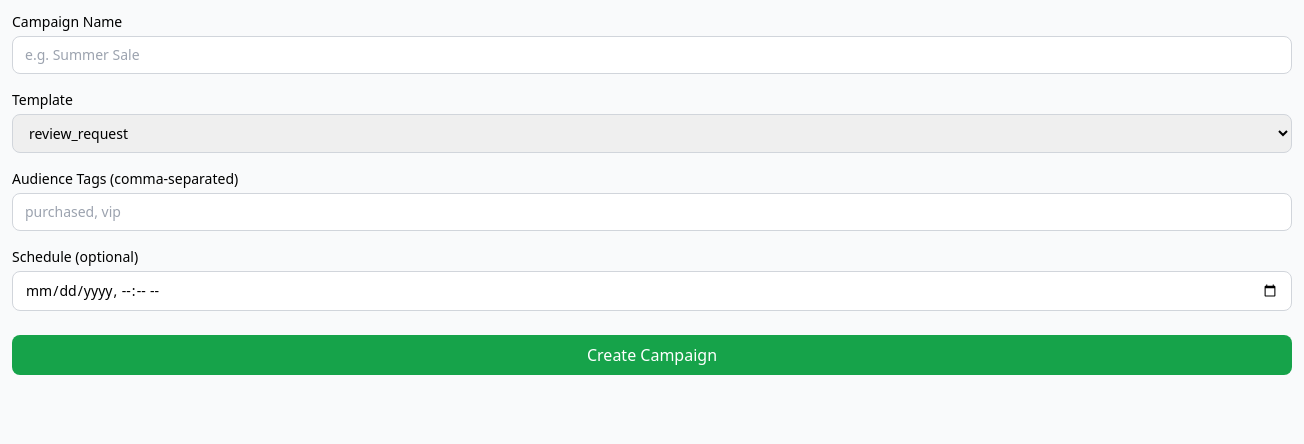
Test case: CampaignForm › clears validation error after valid name is entered and re-submitted
# Trigger error
Click the button "Create Campaign".
click(652, 355)  # box [12,335,1292,375]
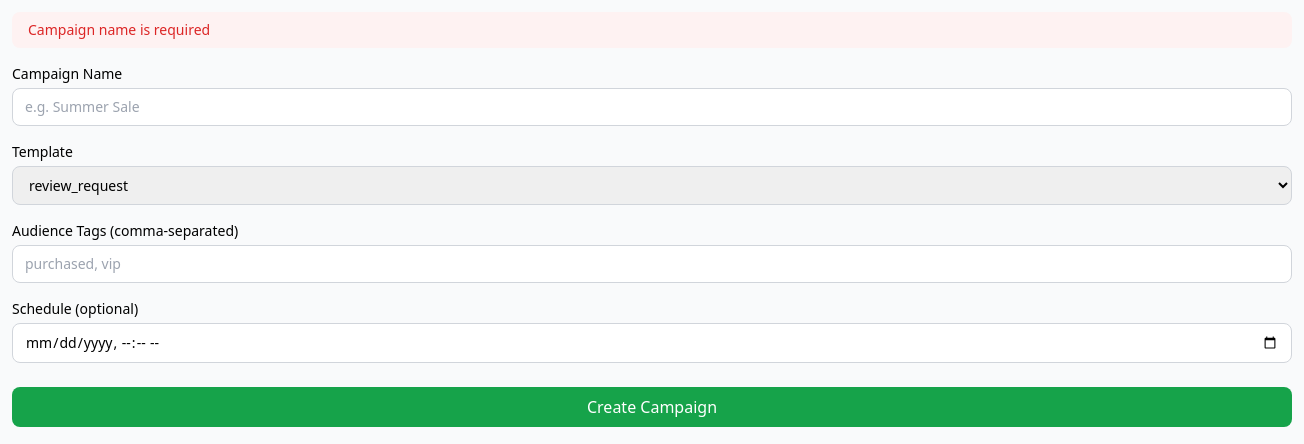
expect the message "Campaign name is required" is shown: met, box [12,12,1292,48]
# Enter valid name and submit
Type "Diwali Special" into the field labelled "Campaign Name".
click(652, 107); type("Diwali Special")  # box [12,88,1292,126]
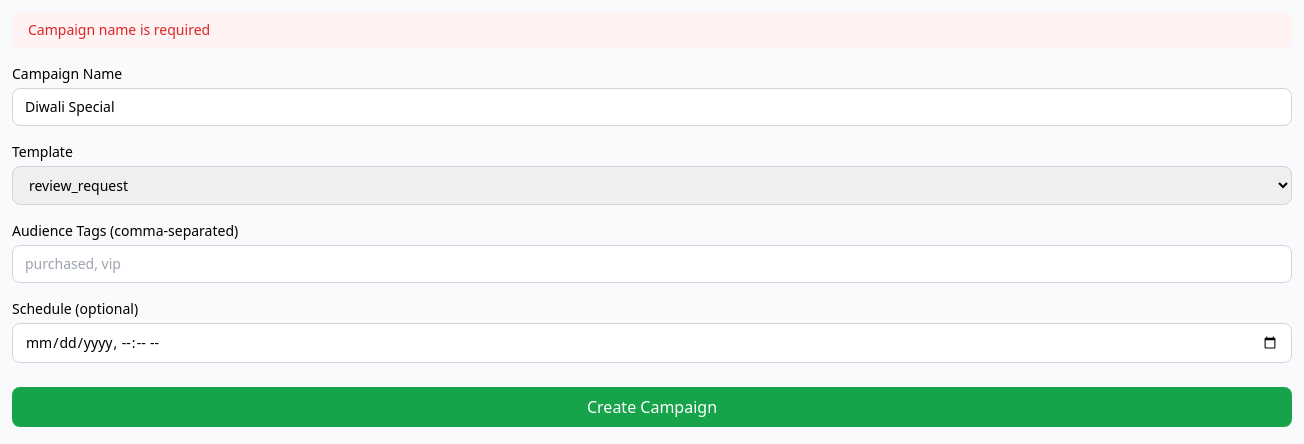
Click the button "Create Campaign".
click(652, 407)  # box [12,387,1292,427]
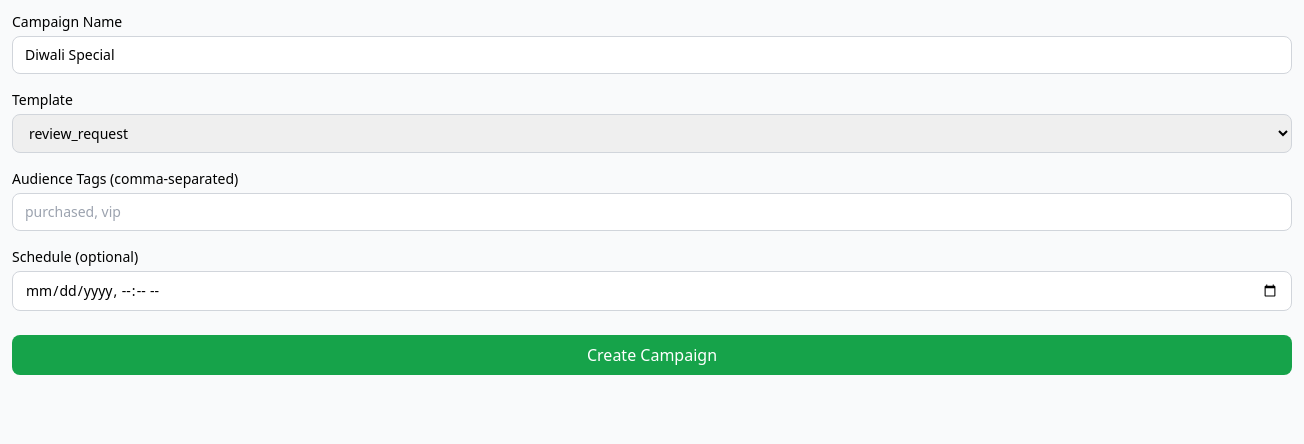
expect the message "Campaign name is required" is gone: met
